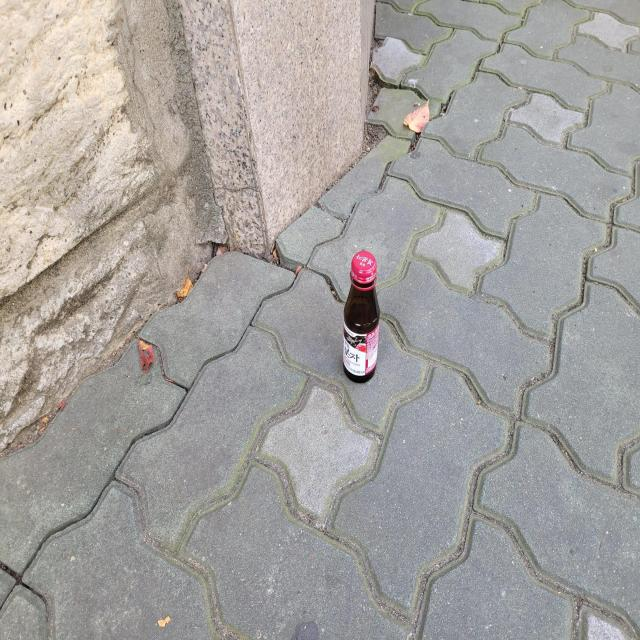glass: (343, 250, 380, 382)
